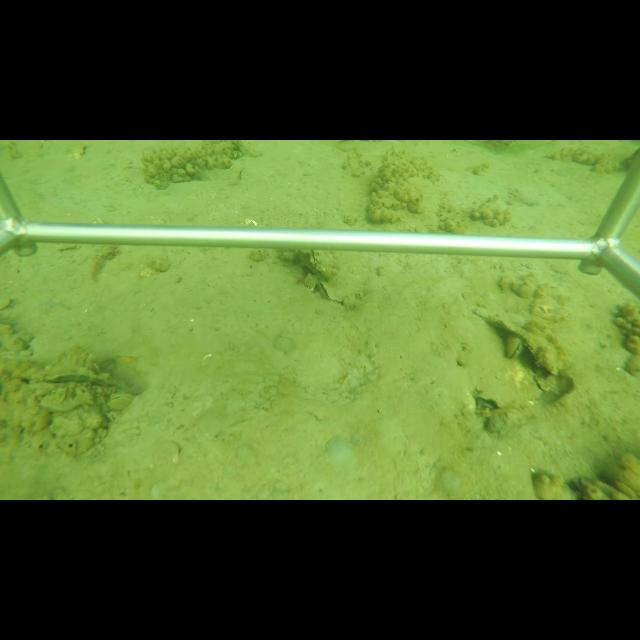Oyster-Closed: (18, 365, 148, 396)
Oyster-Open: (317, 279, 349, 308)
